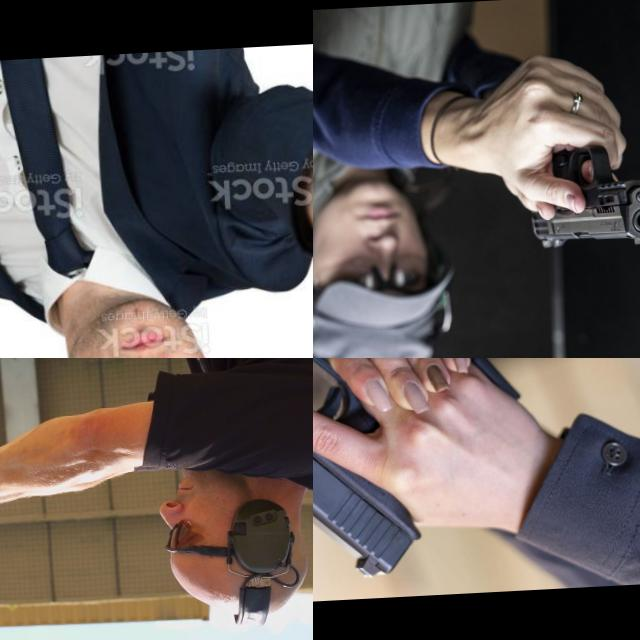handgun: (313, 358, 471, 590), (522, 137, 640, 251), (0, 499, 71, 558)
